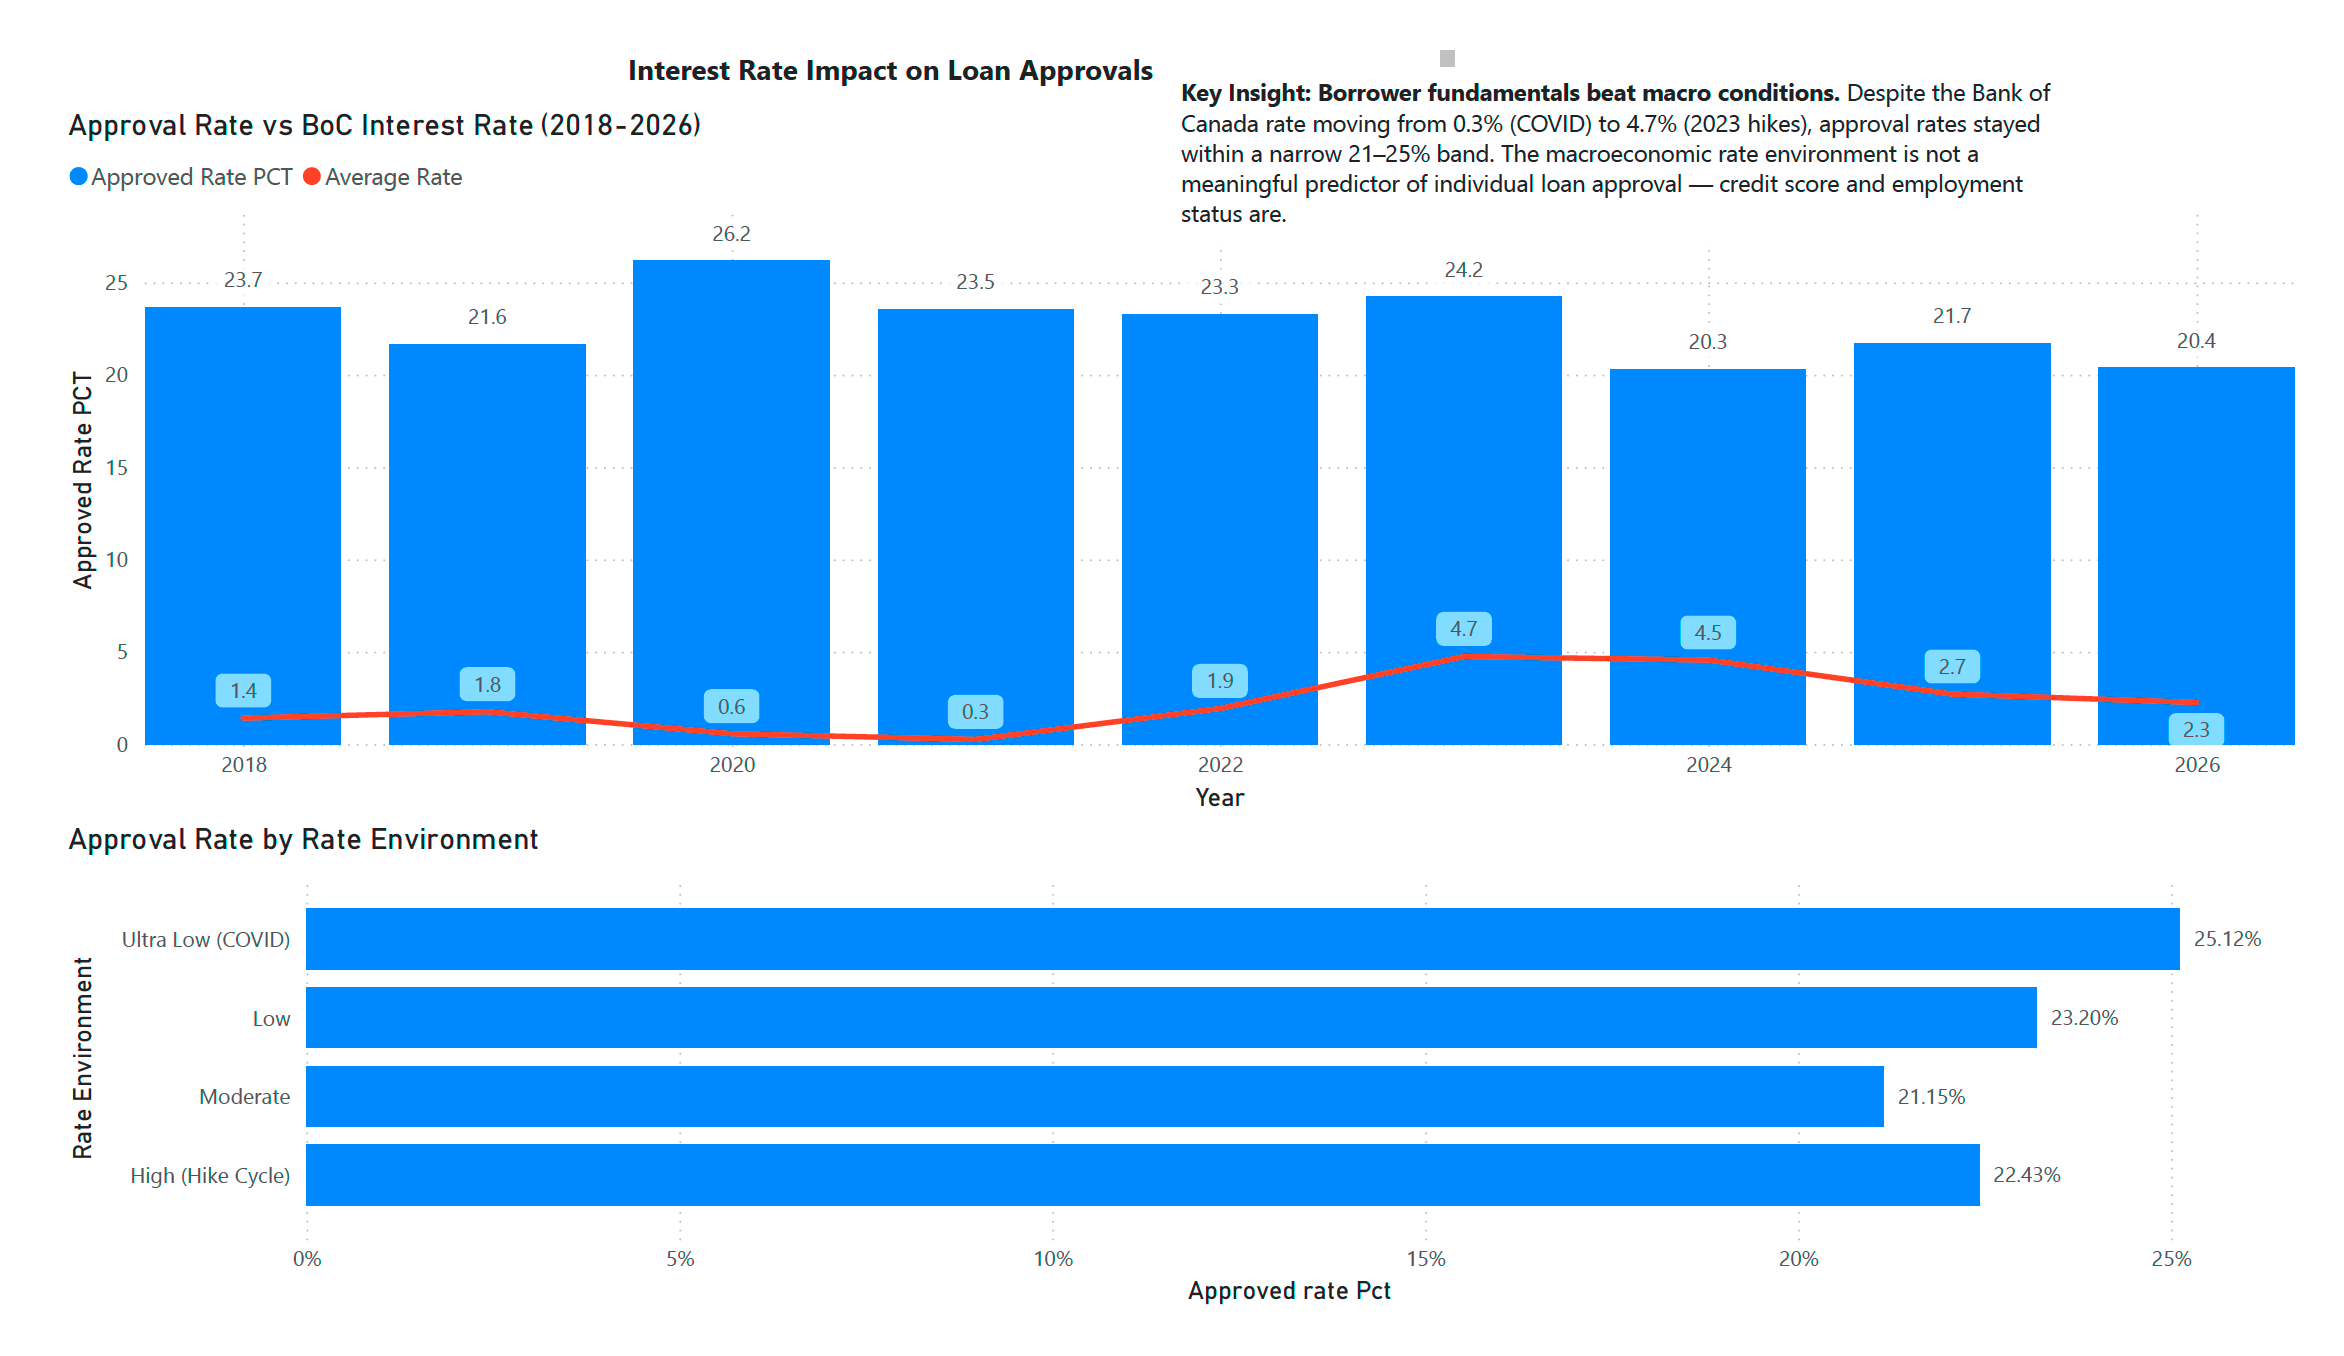

Layout of this report page (visuals, bound fields, positions):
{"tool":"powerbi","page":{"name":"Interest Rate Impact on Loan Approvals","canvas":[1280,720],"ordinal":2},"visuals":[{"type":"lineStackedColumnComboChart","title":"Approval Rate vs BoC Interest Rate (2018-2026)","fields":{"Y":["Avg(monthlyapprovalvsrate.Approved Rate PCT)"],"Y2":["Avg(monthlyapprovalvsrate.Average Rate)"],"Category":["monthlyapprovalvsrate.Loan Month.Variation.Date Hierarchy.Year","monthlyapprovalvsrate.Loan Month.Variation.Date Hierarchy.Quarter"]},"box":[9.9,37.1,1269.9,403.9],"z":0},{"type":"barChart","title":"Approval Rate by Rate Environment","fields":{"Category":["Approval_by_rateenvirnment.Rate Environment"],"Y":["Avg(Approval_by_rateenvirnment.Approved rate Pct)"]},"box":[9.9,441,1269.9,279],"z":1},{"type":"textbox","box":[326.6,0,478.8,30.3],"z":2},{"type":"textbox","box":[640.2,15.5,520.2,98.4],"z":3}]}

Visuals, with their boxes in screenshot pixels (x1, y1, x2, y2), scaled from the page's 1280x720 canvas onto the 2344x1356 screenshot:
"Approval Rate vs BoC Interest Rate (2018-2026)" lineStackedColumnComboChart: 18:70:2343:831
"Approval Rate by Rate Environment" barChart: 18:831:2343:1355
textbox: 598:0:1475:57
textbox: 1172:29:2125:215
